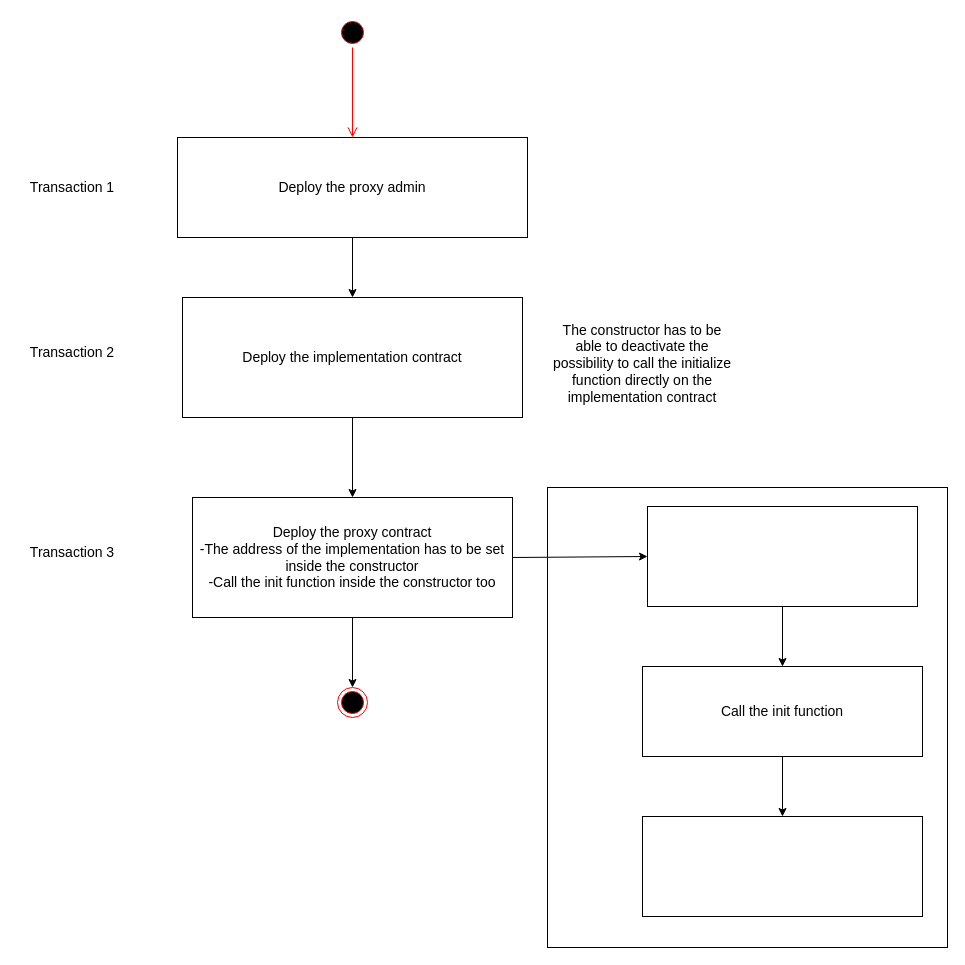
The diagram is 965 pixels wide and 965 high, and some of its shapes have lost their labels. Here are the shapes that lost their labels. From the top down, the centre of each, then its label:
(x=782, y=556): Set the implementation address
(x=782, y=866): Set the admin of the contract (address of the proxy admin)
